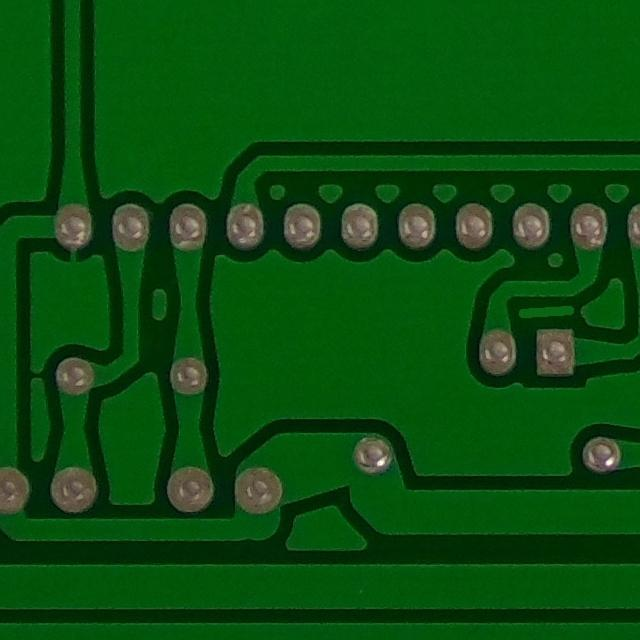spurious_copper: (512, 295, 580, 327)
